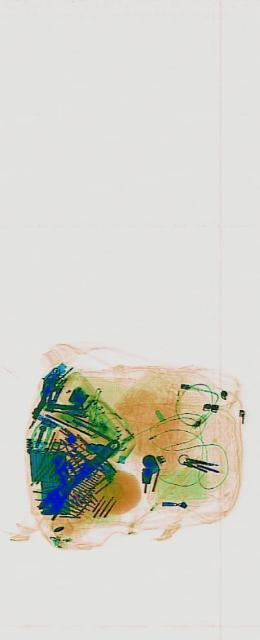Wrench: (36, 424, 121, 528)
